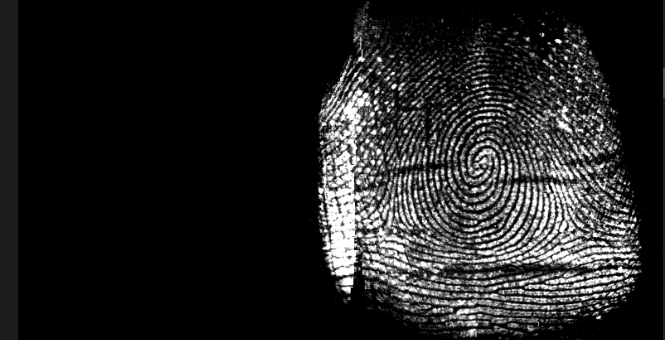deltas: (550, 204, 604, 248), (370, 202, 418, 242)
nucleo: (464, 138, 500, 179)
